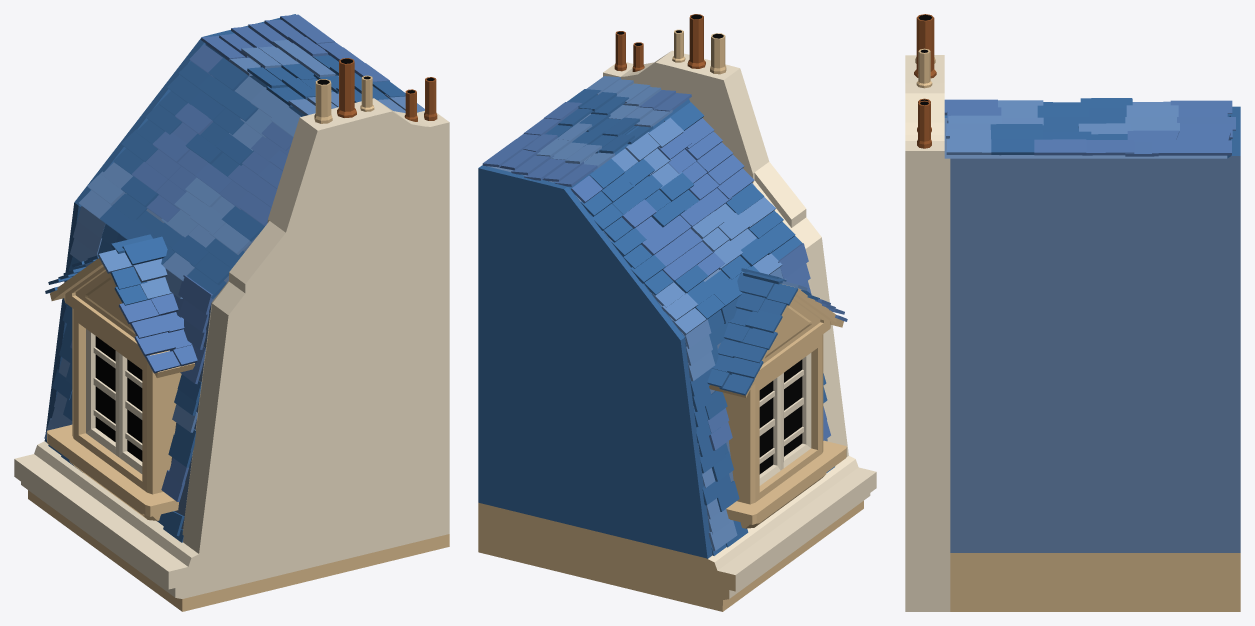
File: RoofEdge_C_2.fbx
3 views of the same model, side by side, from view 1: azimuth 30°, elevation 25°; view 2: azimuth 150°, elevation 25°; view 3: azimuth 270°, elevation 25° (orthographic). The views are drawn at different scales.
Visible parts, largest first — view 1: RoofEdge_C_2; view 2: RoofEdge_C_2; view 3: RoofEdge_C_2.
Boxes of the visible parts, left/top/right/bottom form: RoofEdge_C_2: left=14, top=14, right=449, bottom=611; RoofEdge_C_2: left=478, top=14, right=876, bottom=611; RoofEdge_C_2: left=905, top=14, right=1240, bottom=611.
Size of the model in its own units: 210 by 200 by 359.
